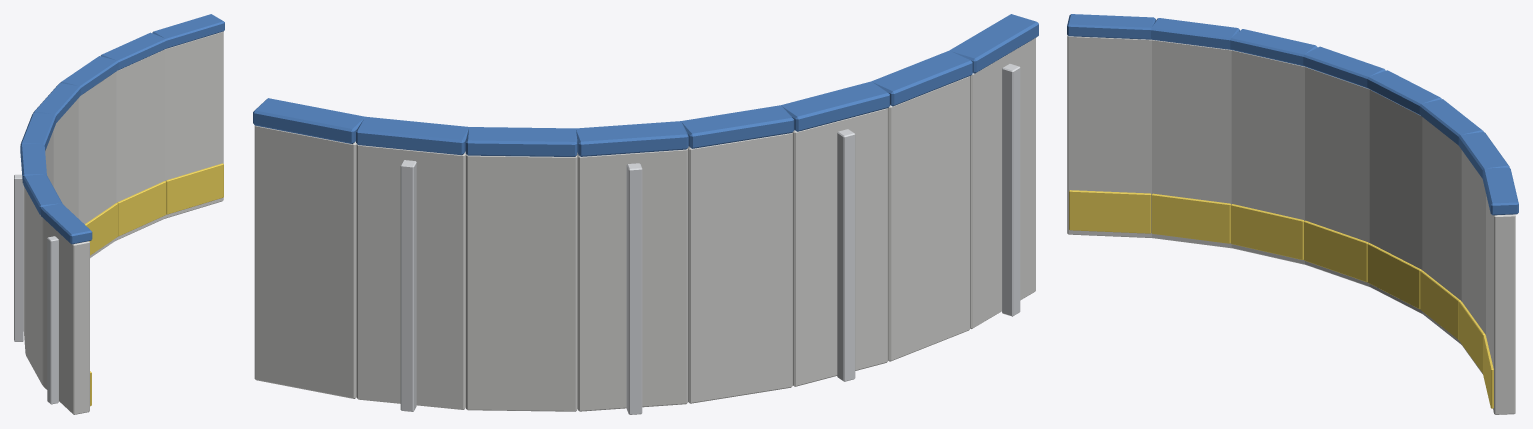
File: boardcorner.glb
The picture shows the model from 3 angles, left to right: view 1: azimuth 30°, elevation 25°; view 2: azimuth 150°, elevation 25°; view 3: azimuth 270°, elevation 25°; orthographic projection. The views are drawn at different scales.
Visible parts, largest first — view 1: boards-panel-corner; view 2: boards-panel-corner; view 3: boards-panel-corner.
Part boxes in pixels (x1,y1,x2,y2): boards-panel-corner: (14,14,224,414); boards-panel-corner: (253,14,1038,414); boards-panel-corner: (1067,14,1518,414).
Size of the model in its own units: 2.1 by 1.07 by 2.07.
